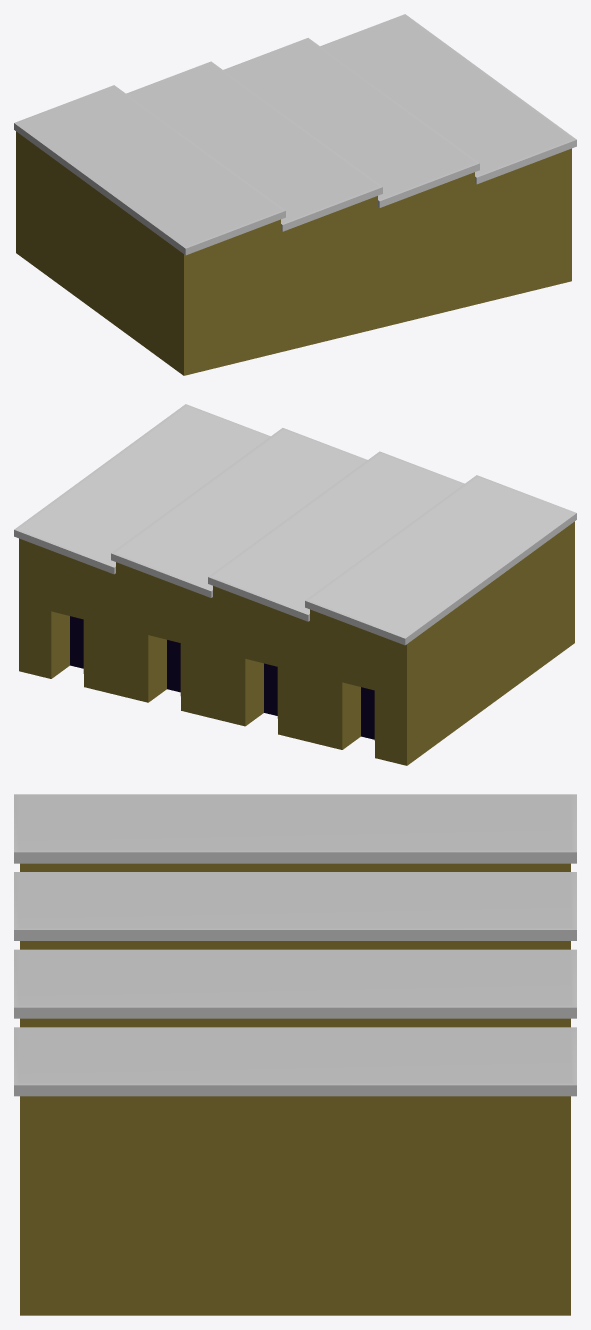
The model's file is Building_9 (1).fbx.
3 views of the same model, one above another, from view 1: azimuth 30°, elevation 25°; view 2: azimuth 150°, elevation 25°; view 3: azimuth 270°, elevation 25° (orthographic). The views are drawn at different scales.
Visible parts, largest first — view 1: Building_9; view 2: Building_9; view 3: Building_9.
Part boxes in pixels (x1,y1,x2,y2): Building_9: (14, 14, 576, 375); Building_9: (14, 404, 576, 765); Building_9: (14, 794, 576, 1315).
Bounding box in the file's own units: 1210 × 420 × 920.
